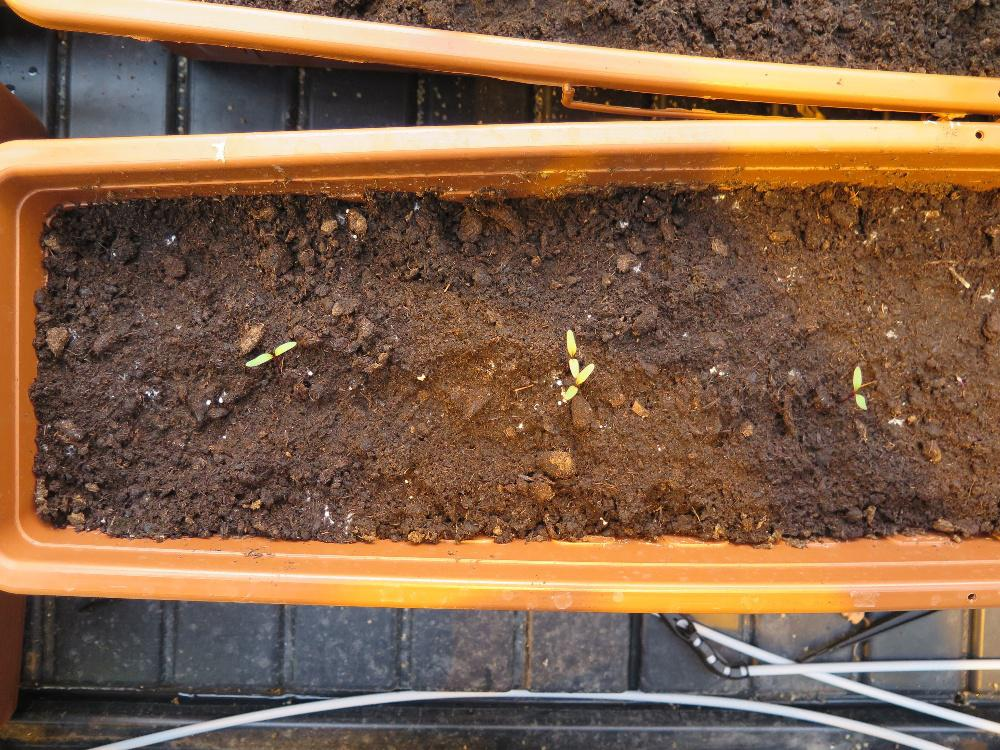crop: (243, 337, 296, 367), (850, 363, 867, 413)
